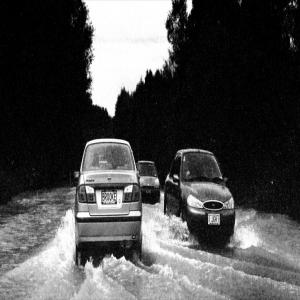Vehicle-registration-plate: (102, 189, 118, 207), (209, 214, 221, 229)
